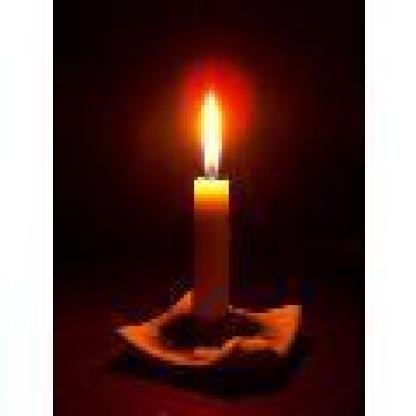Fire: (198, 85, 225, 158)
